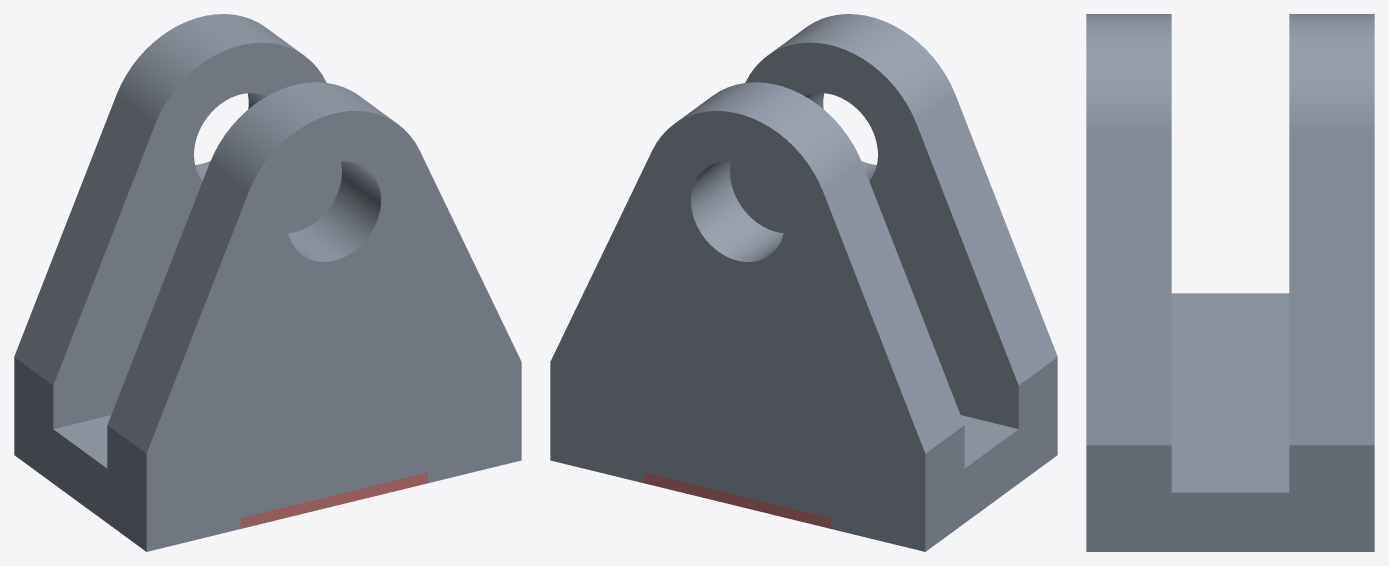
The model's file is step_07.glb.
3 renders of one model, left to right at view 1: azimuth 30°, elevation 25°; view 2: azimuth 150°, elevation 25°; view 3: azimuth 270°, elevation 25°, orthographic. The views are drawn at different scales.
Parts seen in each view (by area): view 1: part__fork bracket, removed__fork bracket; view 2: part__fork bracket, removed__fork bracket; view 3: part__fork bracket.
Boxes of the visible parts, x1=… form: part__fork bracket: x1=14, y1=14, x2=521, y2=551; removed__fork bracket: x1=240, y1=472, x2=427, y2=528; part__fork bracket: x1=550, y1=14, x2=1057, y2=551; removed__fork bracket: x1=644, y1=472, x2=831, y2=528; part__fork bracket: x1=1086, y1=14, x2=1374, y2=551.
Bounding box in the file's own units: 72 × 71.98 × 44.
